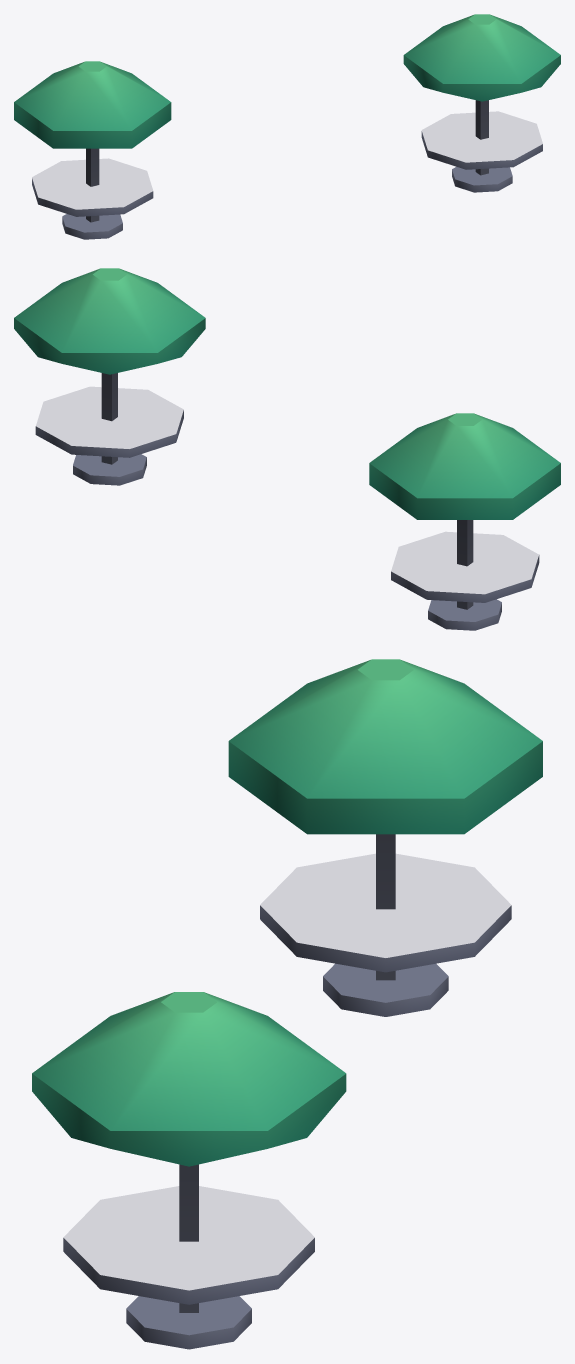
The model's file is plaza.glb.
3 views of the same model, one above another, from view 1: azimuth 30°, elevation 25°; view 2: azimuth 150°, elevation 25°; view 3: azimuth 270°, elevation 25° (orthographic). The views are drawn at different scales.
Visible parts, largest first — view 1: plaza; view 2: plaza; view 3: plaza.
Part boxes in pixels (box(x1,y1,x2,y2)): plaza: box(14, 14, 560, 239); plaza: box(14, 268, 560, 630); plaza: box(32, 659, 542, 1349).
Bounding box in the file's own units: 10.77 × 3.6 × 5.2.
2 materials, 2 textured.
